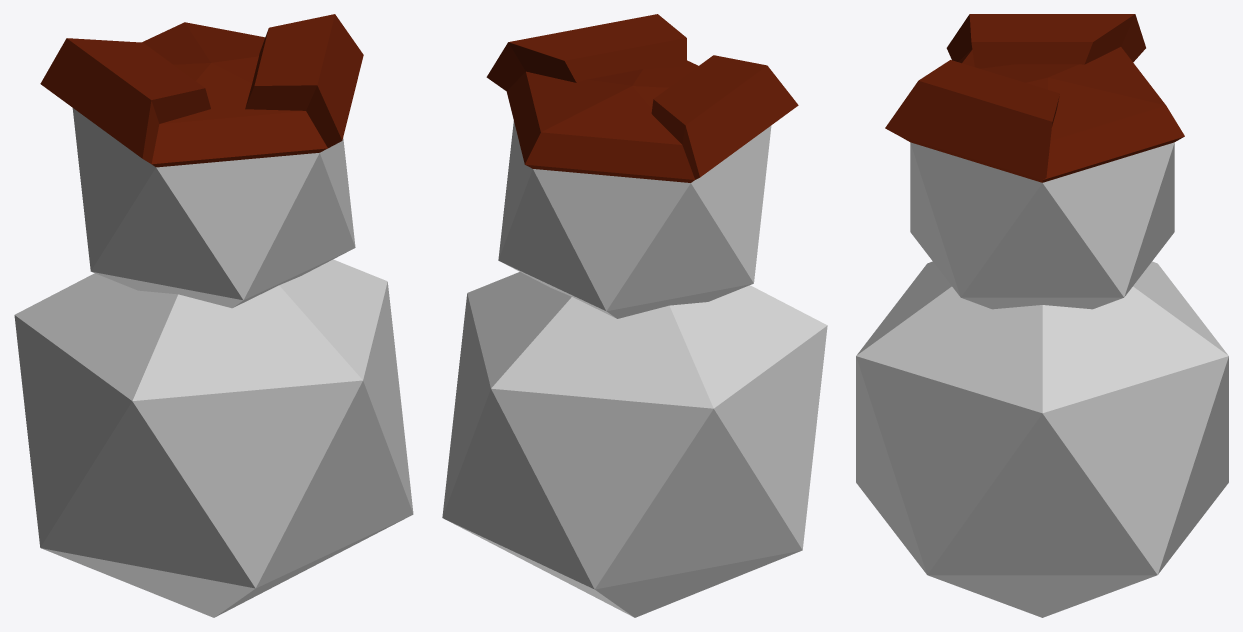
Rendered from snowman.obj.
3 views of the same model, side by side, from view 1: azimuth 30°, elevation 25°; view 2: azimuth 150°, elevation 25°; view 3: azimuth 270°, elevation 25° (orthographic). The views are drawn at different scales.
Parts seen in each view (by area): view 1: Icosphere, Icosphere.001; view 2: Icosphere, Icosphere.001; view 3: Icosphere, Icosphere.001.
Part boxes in pixels (x1,y1,x2,y2): Icosphere: [14, 259, 413, 617]; Icosphere.001: [40, 14, 363, 308]; Icosphere: [442, 272, 827, 617]; Icosphere.001: [486, 14, 798, 318]; Icosphere: [856, 261, 1228, 617]; Icosphere.001: [885, 14, 1184, 309].
Size of the model in its own units: 2.45 by 3.84 by 2.33.
